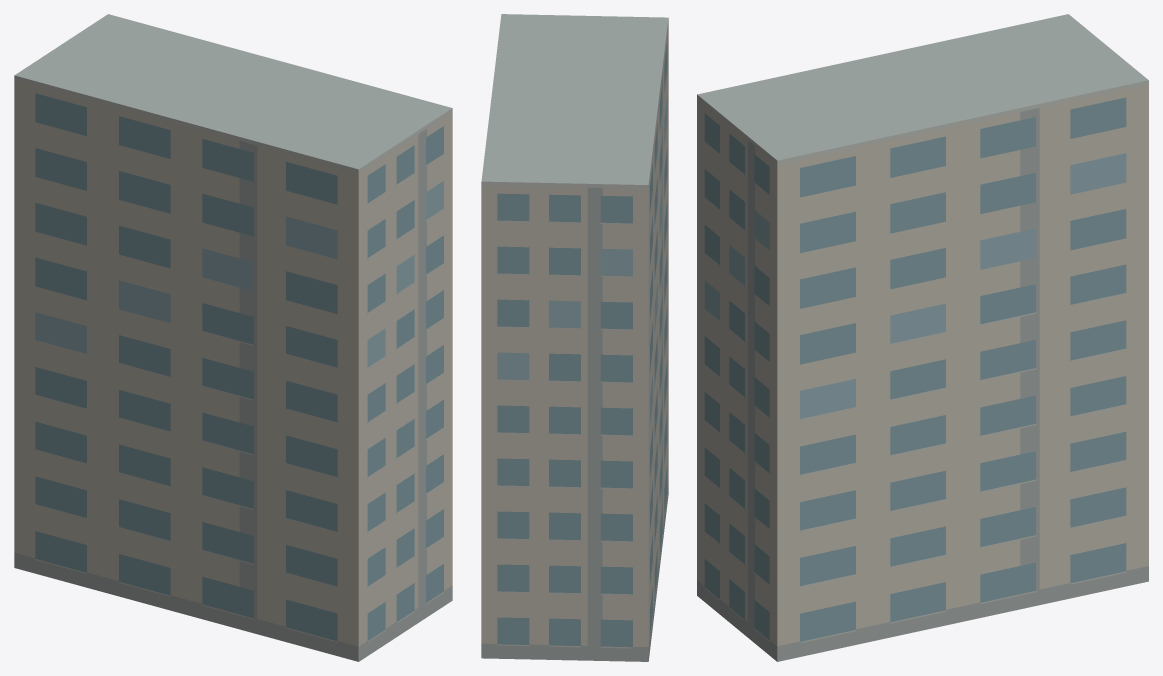
The model's file is residential-72468d33-30eb-4868-9c6a-f1a26d1b83c8.glb.
3 renders of one model, left to right at view 1: azimuth 30°, elevation 25°; view 2: azimuth 150°, elevation 25°; view 3: azimuth 270°, elevation 25°, orthographic. The views are drawn at different scales.
Parts seen in each view (by area): view 1: residential-72468d33-30eb-4868-9c6a-f1a26d1b83c8.tmp; view 2: residential-72468d33-30eb-4868-9c6a-f1a26d1b83c8.tmp; view 3: residential-72468d33-30eb-4868-9c6a-f1a26d1b83c8.tmp.
Boxes of the visible parts, x1,y1,x2,y2 form: residential-72468d33-30eb-4868-9c6a-f1a26d1b83c8.tmp: (14, 14, 452, 661); residential-72468d33-30eb-4868-9c6a-f1a26d1b83c8.tmp: (481, 14, 668, 661); residential-72468d33-30eb-4868-9c6a-f1a26d1b83c8.tmp: (697, 14, 1148, 661).
Size of the model in its own units: 19.45 by 31 by 25.32.
